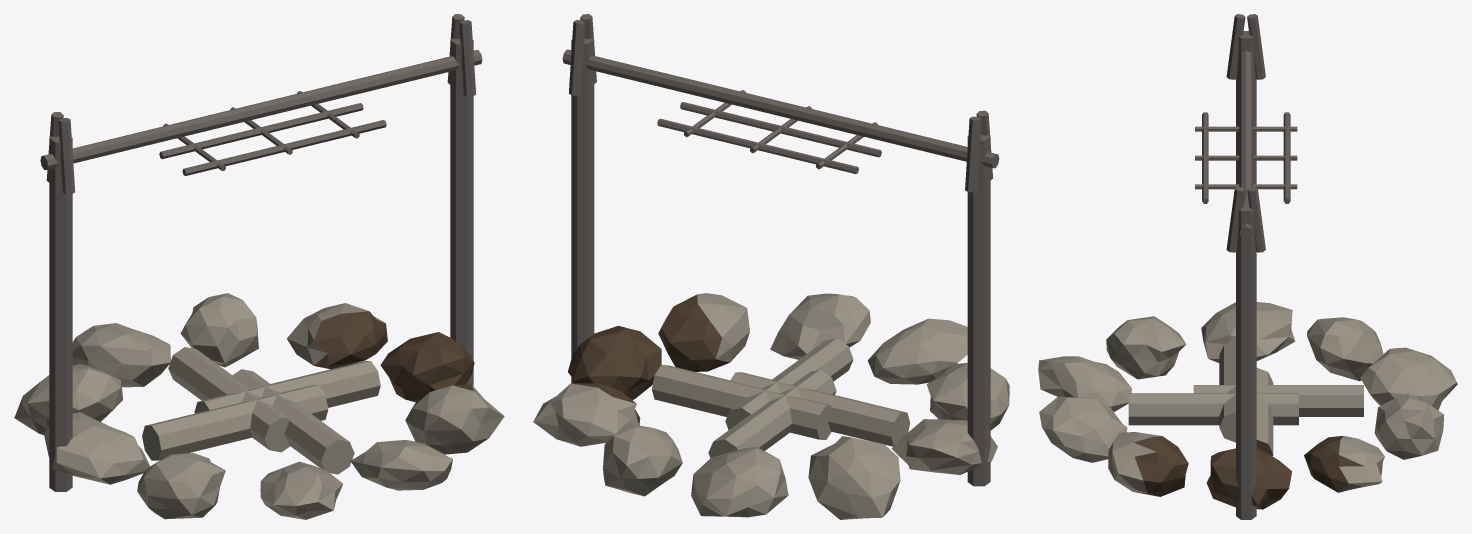
The model's file is campfire_grill.glb.
The picture shows the model from 3 angles, left to right: view 1: azimuth 30°, elevation 25°; view 2: azimuth 150°, elevation 25°; view 3: azimuth 270°, elevation 25°; orthographic projection. The views are drawn at different scales.
Visible parts, largest first — view 1: campfire_grill; view 2: campfire_grill; view 3: campfire_grill.
Boxes of the visible parts, bbox=[...] form: campfire_grill: bbox=[14, 14, 504, 519]; campfire_grill: bbox=[533, 14, 1009, 519]; campfire_grill: bbox=[1038, 14, 1457, 519].
Bounding box in the file's own units: 0.65 × 0.5372 × 0.6156.
